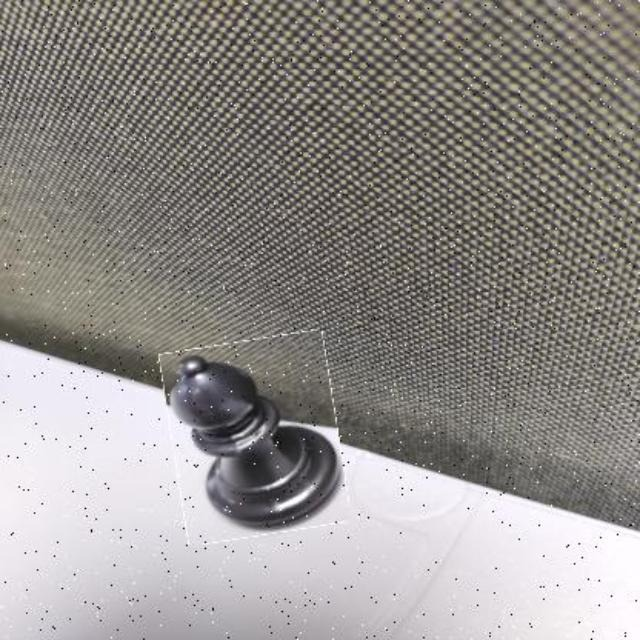black-bishop: (166, 336, 344, 540)
